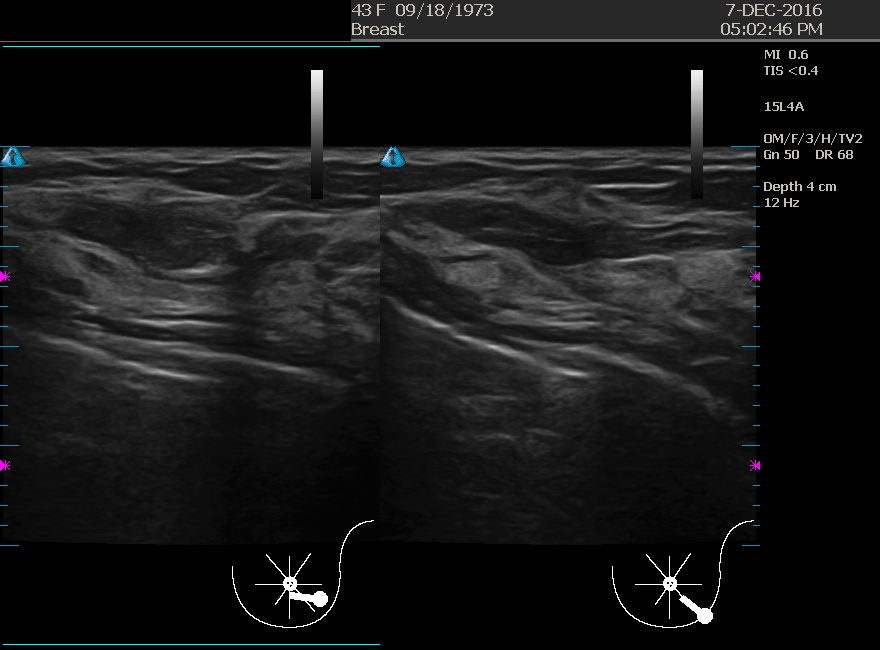BIRADS_3: (38, 150, 238, 350), (415, 151, 615, 351)
